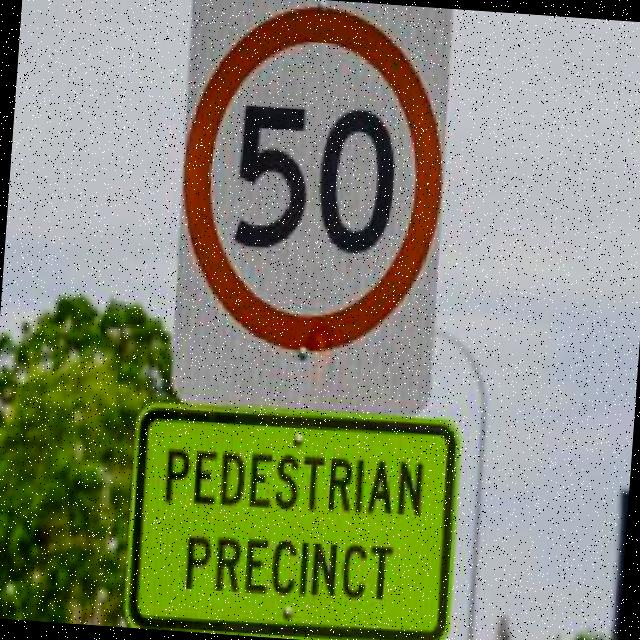Ograniczenie predkosci do 50: (171, 0, 457, 356)
